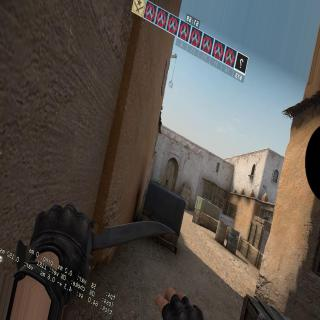CT-Body: (165, 179, 169, 186)
CT-Head: (168, 180, 168, 182)
